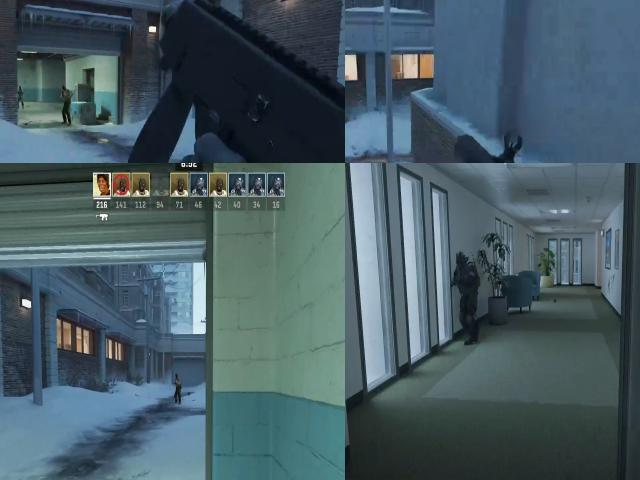CT: (451, 248, 482, 307)
CT-Head: (452, 252, 470, 274)
T: (58, 78, 72, 123), (173, 373, 183, 394)
T-Head: (62, 85, 68, 97), (174, 374, 182, 382)
